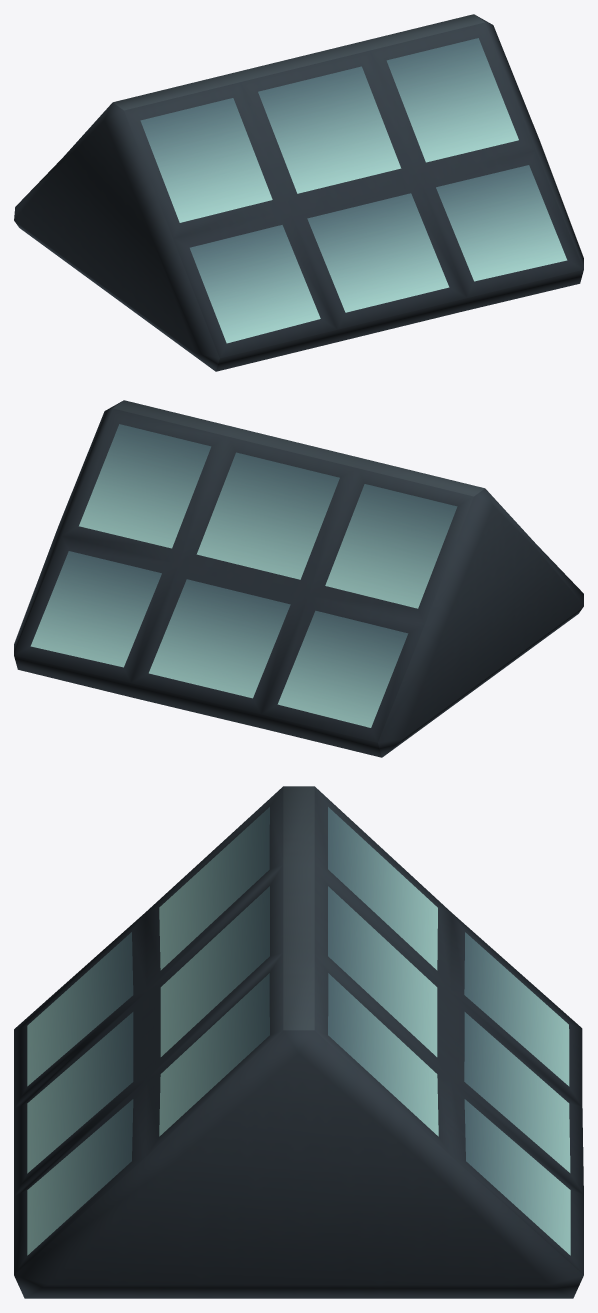
The model's file is rooftop_windows_tent_large.fbx.
The picture shows the model from 3 angles, top to bottom: view 1: azimuth 30°, elevation 25°; view 2: azimuth 150°, elevation 25°; view 3: azimuth 270°, elevation 25°; orthographic projection. The views are drawn at different scales.
Visible parts, largest first — view 1: rooftop_windows_tent_large; view 2: rooftop_windows_tent_large; view 3: rooftop_windows_tent_large.
Part boxes in pixels (<box>): rooftop_windows_tent_large: <box>14,14,583,371</box>; rooftop_windows_tent_large: <box>14,400,583,757</box>; rooftop_windows_tent_large: <box>14,786,583,1298</box>.
Bounding box in the file's own units: 300 × 142 × 275.
